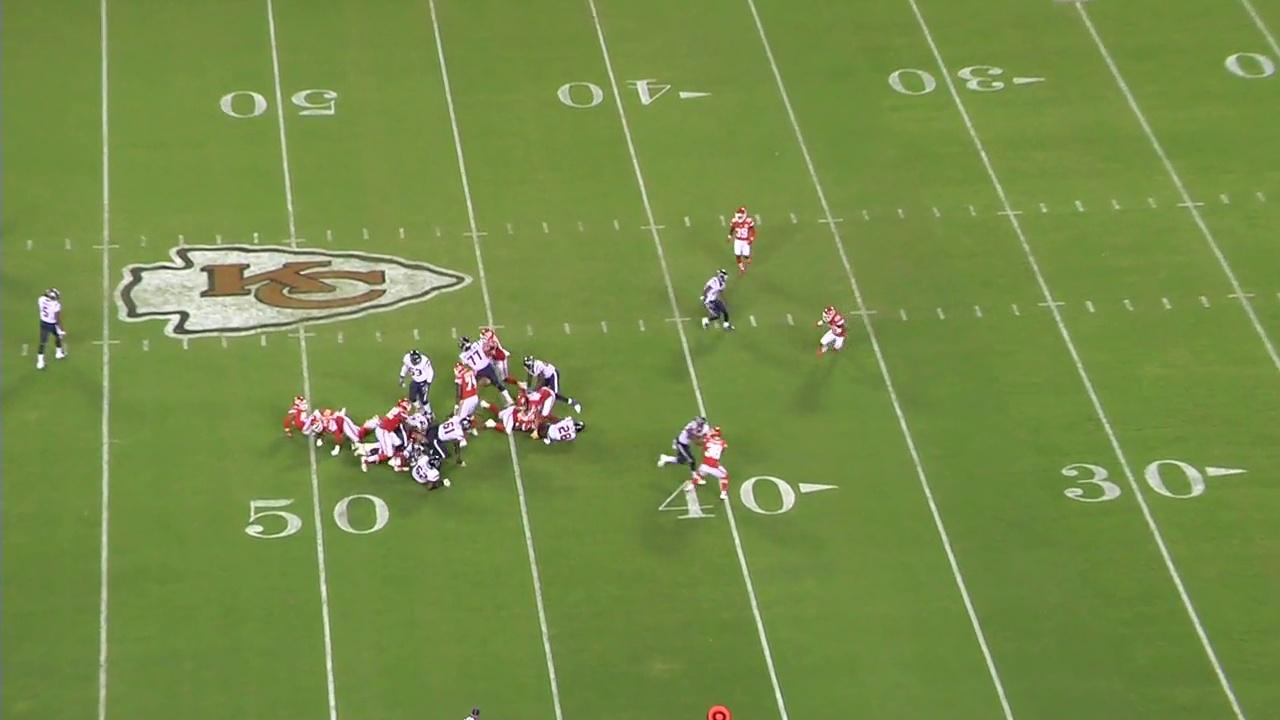five_hash: (90, 339, 122, 347), (994, 209, 1025, 217), (1226, 292, 1257, 300), (287, 331, 317, 339), (663, 315, 693, 323), (1177, 201, 1205, 209), (639, 224, 669, 231), (1036, 301, 1066, 308), (280, 238, 306, 245), (476, 324, 506, 330), (463, 231, 488, 238), (92, 244, 119, 250)
hash: (1082, 299, 1099, 316), (786, 210, 801, 228), (1008, 302, 1023, 319), (1198, 293, 1212, 311), (21, 237, 36, 253), (60, 237, 75, 253), (933, 307, 948, 323), (249, 230, 263, 246), (322, 228, 336, 244), (358, 226, 372, 242), (1072, 198, 1086, 214), (746, 313, 760, 329), (635, 317, 649, 333), (560, 321, 574, 336), (1159, 295, 1172, 311), (784, 310, 796, 327), (448, 324, 460, 341), (258, 333, 270, 350), (539, 220, 552, 235), (1122, 298, 1135, 313), (410, 328, 423, 343), (973, 303, 984, 320), (1217, 193, 1231, 206), (599, 319, 611, 334), (140, 337, 152, 352), (1036, 201, 1049, 214), (176, 232, 188, 246), (213, 233, 225, 247), (610, 217, 622, 231), (335, 331, 347, 345), (682, 215, 693, 230), (861, 207, 872, 222), (1111, 197, 1122, 212), (897, 306, 908, 321), (896, 208, 908, 220), (397, 227, 408, 240), (21, 342, 30, 357), (718, 215, 728, 228), (182, 338, 192, 350), (754, 213, 763, 225)
number: (557, 73, 675, 112), (218, 85, 342, 122)
